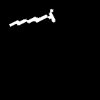half_double_crochet: (10, 9, 54, 25)
